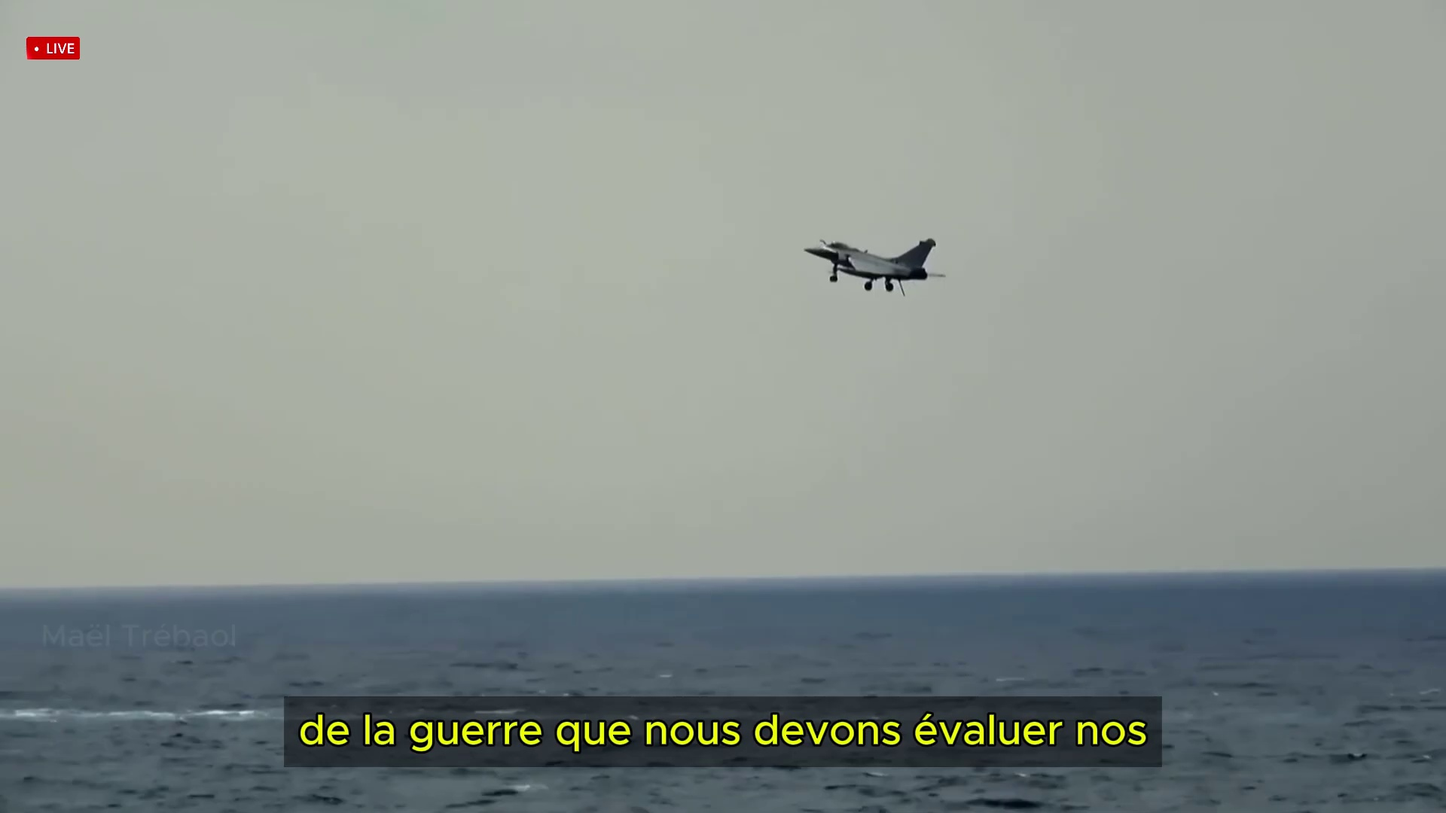Rafale: (805, 236, 946, 294)
